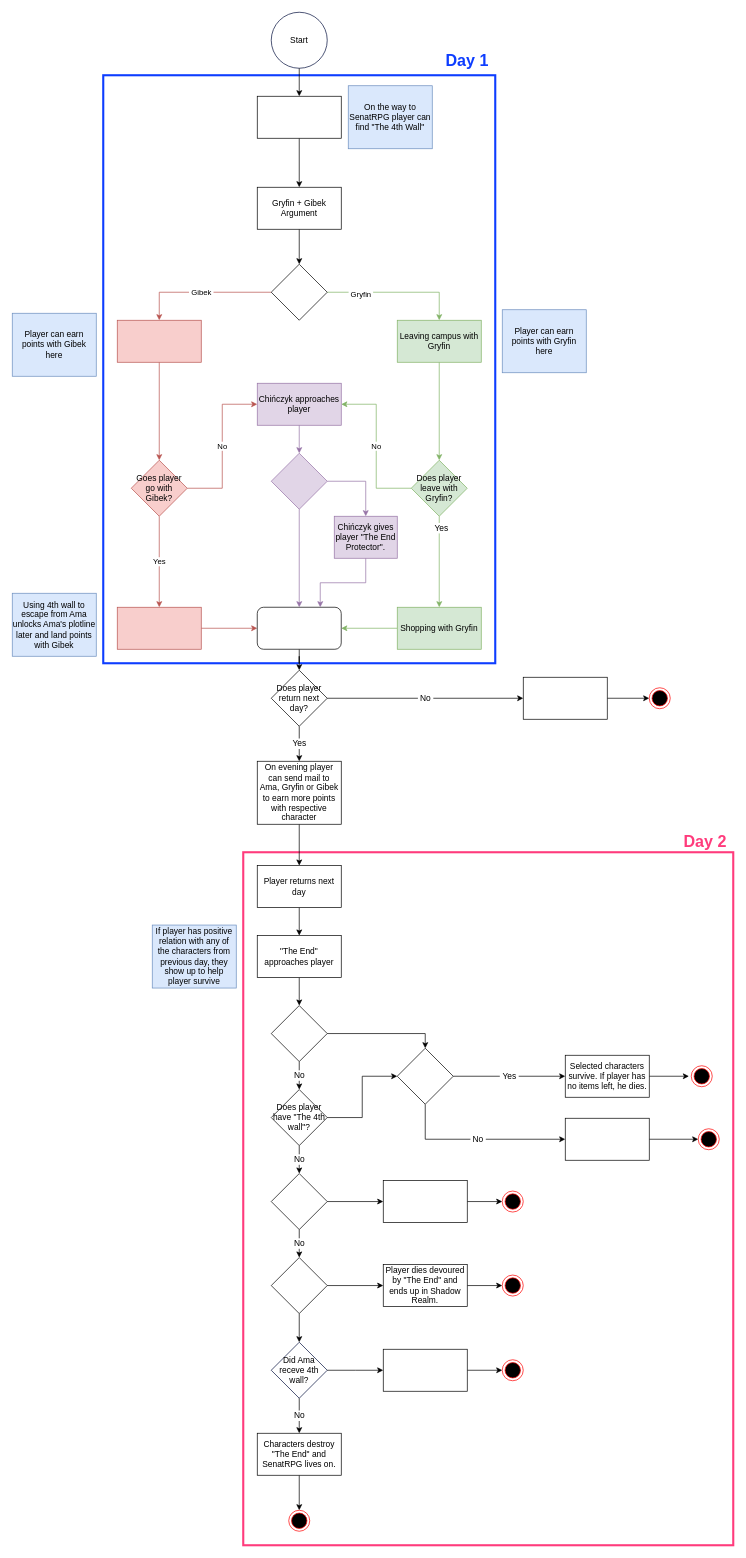
This 746x1558 diagram has some shape labels left out. The shapes that lost their labels are listed below. From the top down, each one's box as (x1, y1, x2, y2) in pixels, then its label:
(257, 96, 341, 138): Introduction
(271, 264, 327, 320): Gibek or Gryfin?
(117, 320, 201, 362): Going to lecture with with Gibek
(271, 453, 327, 509): Did player appease Chińczyk?
(117, 607, 201, 649): Ama + Gibek Cantina
(257, 607, 341, 649): Player Goes Back Home
(523, 677, 607, 719): Player leaves sad and eventually gets kidnapped by Shadow Realm
(271, 1005, 327, 1062): Does player have "The End protector"?
(397, 1048, 453, 1104): Does player give up his items to save other characters?
(565, 1118, 649, 1160): Player can escape to safety while "The End" destroys the SenatRPG.
(271, 1173, 327, 1230): Is only one character present?
(383, 1180, 467, 1223): Characters dies, but player escapes "The End"
(271, 1257, 327, 1314): Are two characters present?
(383, 1349, 467, 1391): Ama realizes that she's in the game and concurs the world.
